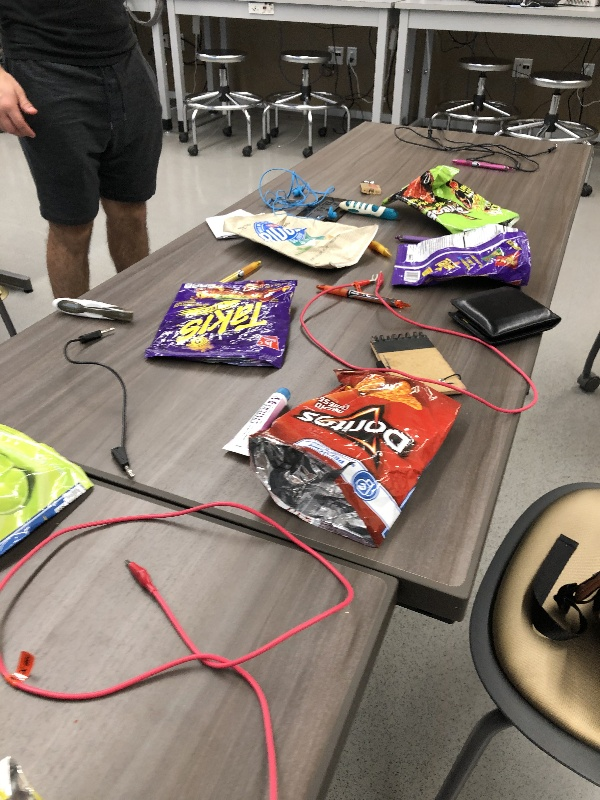bag: (242, 363, 462, 554), (143, 279, 302, 375), (1, 413, 100, 560), (379, 163, 526, 240), (388, 219, 535, 295), (222, 207, 380, 273)
